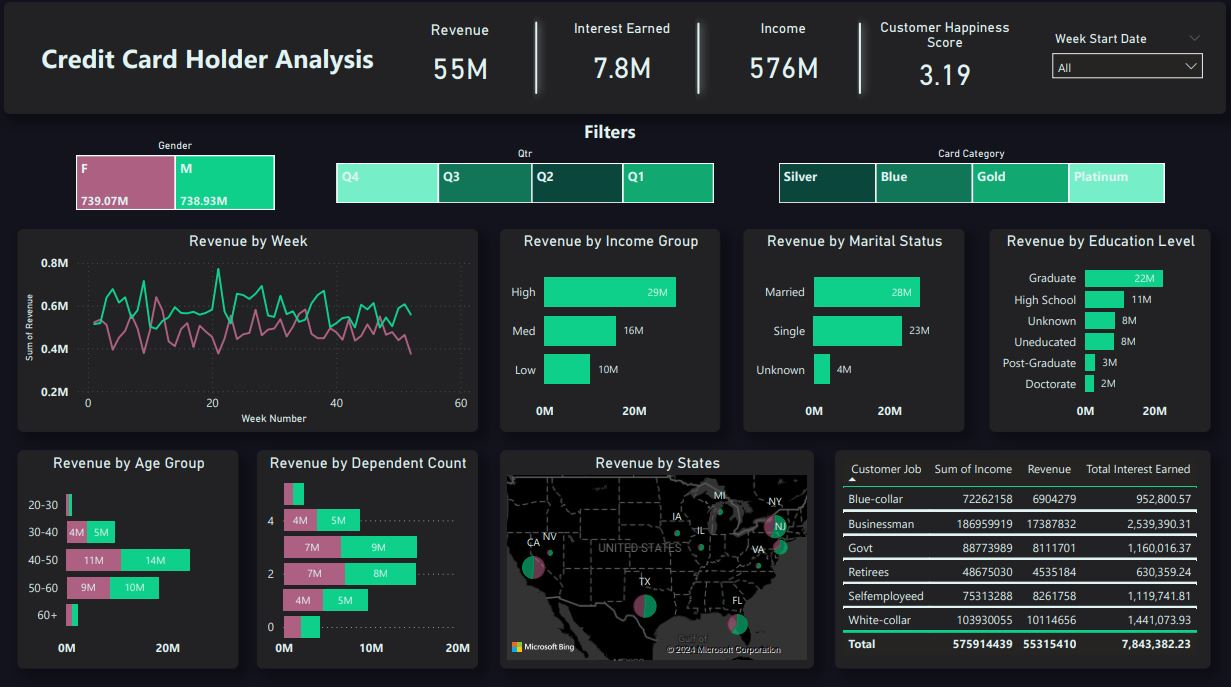

What the dashboard file says about the page in this screenshot:
{"tool":"powerbi","page":{"name":"Credit Card Customer","canvas":[1280,720],"ordinal":1},"visuals":[{"type":"shape","box":[7.4,7.4,1265.9,115.8],"z":0},{"type":"textbox","box":[41.2,40.6,399.8,48.4],"z":1000},{"type":"card","title":"Interest Earned","fields":{"Values":["Sum(cc_detail.Interest_Earned)"]},"box":[568.1,26.1,158.6,78.3],"z":2000},{"type":"textbox","box":[602.9,123.1,74.3,38.1],"z":3000},{"type":"slicer","fields":{"Values":["cc_detail.Week_Start_Date"]},"box":[1082.6,33.5,176.6,63.6],"z":4000},{"type":"card","title":"Revenue","fields":{"Values":["Sum(cc_detail.Revenue)"]},"box":[400.1,26.1,158.6,79],"z":5000},{"type":"card","title":"Income","fields":{"Values":["Sum(cust_detail.Income)"]},"box":[735.3,26.1,158.6,79],"z":6000},{"type":"card","title":"Customer Happiness Score","fields":{"Values":["Avg(cust_detail.Cust_Satisfaction_Score)"]},"box":[902.6,25.4,158.6,79],"z":7000},{"type":"shape","box":[547.3,18.1,22.7,93.7],"z":8000},{"type":"shape","box":[715.3,18.7,22.7,93.7],"z":9000},{"type":"shape","box":[882.6,18.7,22.7,93.7],"z":10000},{"type":"treemap","title":"Gender","fields":{"Values":["Avg(cc_detail.Client_Num)"],"Group":["cust_detail.Gender"]},"box":[76.9,149.2,215.5,78.3],"z":11000},{"type":"treemap","title":"Card Category","fields":{"Values":["Avg(cc_detail.Client_Num)"],"Group":["cc_detail.Card_Category"]},"box":[804.9,156.6,408.8,63.6],"z":12000},{"type":"treemap","title":"Qtr","fields":{"Group":["cc_detail.Qtr"],"Values":["Avg(cc_detail.Client_Num)"]},"box":[347.3,156.6,399.5,63.6],"z":13000},{"type":"lineChart","title":"Revenue by Week","fields":{"Category":["cc_detail.Week_Num2","cc_detail.Week_Start_Date.Variation.Date Hierarchy.Year","cc_detail.Week_Start_Date.Variation.Date Hierarchy.Quarter","cc_detail.Week_Start_Date.Variation.Date Hierarchy.Month","cc_detail.Week_Start_Date.Variation.Date Hierarchy.Day"],"Y":["Sum(cc_detail.Revenue)"],"Series":["cust_detail.Gender"]},"box":[20.7,242.2,477.1,209.4],"z":14000},{"type":"barChart","title":"Revenue by Age Group","fields":{"Y":["Sum(cc_detail.Revenue)"],"Category":["cust_detail.AgeGroup"],"Series":["cust_detail.Gender"]},"box":[20.7,471.1,228.8,225.5],"z":15000},{"type":"barChart","title":"Revenue by Dependent Count","fields":{"Y":["Sum(cc_detail.Revenue)"],"Category":["cust_detail.Dependent_Count"],"Series":["cust_detail.Gender"]},"box":[269,471.1,228.8,225.5],"z":16000},{"type":"barChart","title":"Revenue by Income Group","fields":{"Y":["Sum(cc_detail.Revenue)"],"Category":["cust_detail.IncomeGroup"]},"box":[520.6,242.2,228.8,209.4],"z":17000},{"type":"barChart","title":"Revenue by Education Level","fields":{"Category":["cust_detail.Education_Level"],"Y":["Sum(cc_detail.Revenue)"]},"box":[1027.7,242.2,228.8,209.4],"z":18000},{"type":"barChart","title":"Revenue by Marital Status","fields":{"Y":["Sum(cc_detail.Revenue)"],"Category":["cust_detail.Marital_Status"]},"box":[773.5,242.2,228.8,209.4],"z":19000},{"type":"tableEx","fields":{"Values":["cust_detail.Customer_Job","Sum(cust_detail.Income)","Sum(cc_detail.Revenue)","Sum(cc_detail.Interest_Earned)"]},"box":[867.8,471.1,388.8,225.5],"z":20000},{"type":"map","title":" Revenue by States","fields":{"Size":["Sum(cc_detail.Revenue)"],"Category":["cust_detail.State_cd"],"Series":["cust_detail.Gender"]},"box":[520.6,471.1,325.2,225.5],"z":21000}]}

Visuals, with their boxes in screenshot pixels (x1, y1, x2, y2), scaled from the page's 1280x720 canvas onto the 1231x687 screenshot:
shape: bbox=(7, 7, 1225, 118)
textbox: bbox=(40, 39, 424, 85)
"Interest Earned" card: bbox=(546, 25, 699, 100)
textbox: bbox=(580, 117, 651, 154)
slicer - cc_detail.Week_Start_Date: bbox=(1041, 32, 1211, 93)
"Revenue" card: bbox=(385, 25, 537, 100)
"Income" card: bbox=(707, 25, 860, 100)
"Customer Happiness Score" card: bbox=(868, 24, 1021, 100)
shape: bbox=(526, 17, 548, 107)
shape: bbox=(688, 18, 710, 107)
shape: bbox=(849, 18, 871, 107)
"Gender" treemap: bbox=(74, 142, 281, 217)
"Card Category" treemap: bbox=(774, 149, 1167, 210)
"Qtr" treemap: bbox=(334, 149, 718, 210)
"Revenue by Week" lineChart: bbox=(20, 231, 479, 431)
"Revenue by Age Group" barChart: bbox=(20, 450, 240, 665)
"Revenue by Dependent Count" barChart: bbox=(259, 450, 479, 665)
"Revenue by Income Group" barChart: bbox=(501, 231, 721, 431)
"Revenue by Education Level" barChart: bbox=(988, 231, 1208, 431)
"Revenue by Marital Status" barChart: bbox=(744, 231, 964, 431)
tableEx - cust_detail.Customer_Job x Sum(cust_detail.Income): bbox=(835, 450, 1208, 665)
" Revenue by States" map: bbox=(501, 450, 813, 665)
